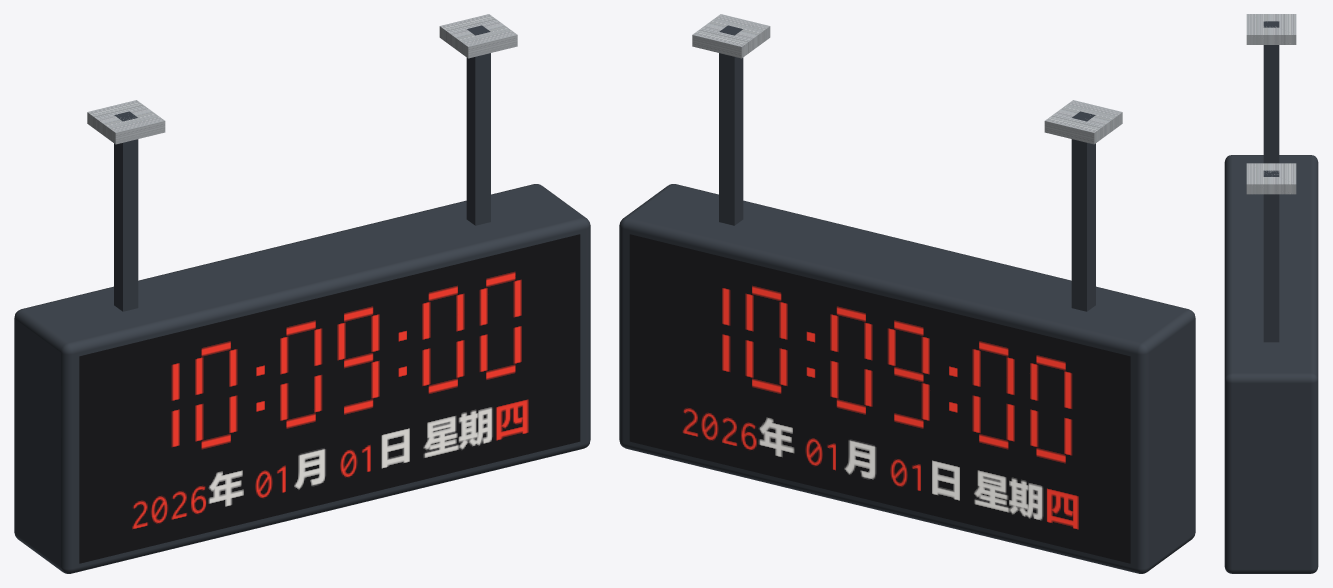
Rendered from clock-digital.glb.
3 renders of one model, left to right at view 1: azimuth 30°, elevation 25°; view 2: azimuth 150°, elevation 25°; view 3: azimuth 270°, elevation 25°, orthographic. The views are drawn at different scales.
Parts seen in each view (by area): view 1: clockDisplay, darkSteel, darkSteel2, darkSteel3, steel, steel2; view 2: clockDisplay2, darkSteel, darkSteel2, darkSteel3, steel, steel2; view 3: darkSteel, darkSteel3, darkSteel2, steel2, steel.
Boxes of the visible parts, x1,y1,x2,y2 form: clockDisplay: (79, 234, 580, 563); darkSteel: (14, 184, 590, 573); darkSteel2: (114, 111, 138, 311); darkSteel3: (466, 25, 490, 225); steel: (87, 100, 165, 144); steel2: (439, 14, 517, 58); clockDisplay2: (629, 234, 1130, 563); darkSteel: (619, 184, 1195, 573); darkSteel2: (1071, 111, 1095, 311); darkSteel3: (719, 25, 743, 225); steel: (1044, 100, 1122, 144); steel2: (692, 14, 770, 58); darkSteel: (1224, 155, 1318, 573); darkSteel3: (1263, 170, 1279, 342); darkSteel2: (1263, 21, 1279, 163); steel2: (1246, 163, 1296, 194); steel: (1246, 14, 1296, 44).
Bounding box in the file's own units: 0.96 × 0.73 × 0.172.
3 materials, 2 textured.
